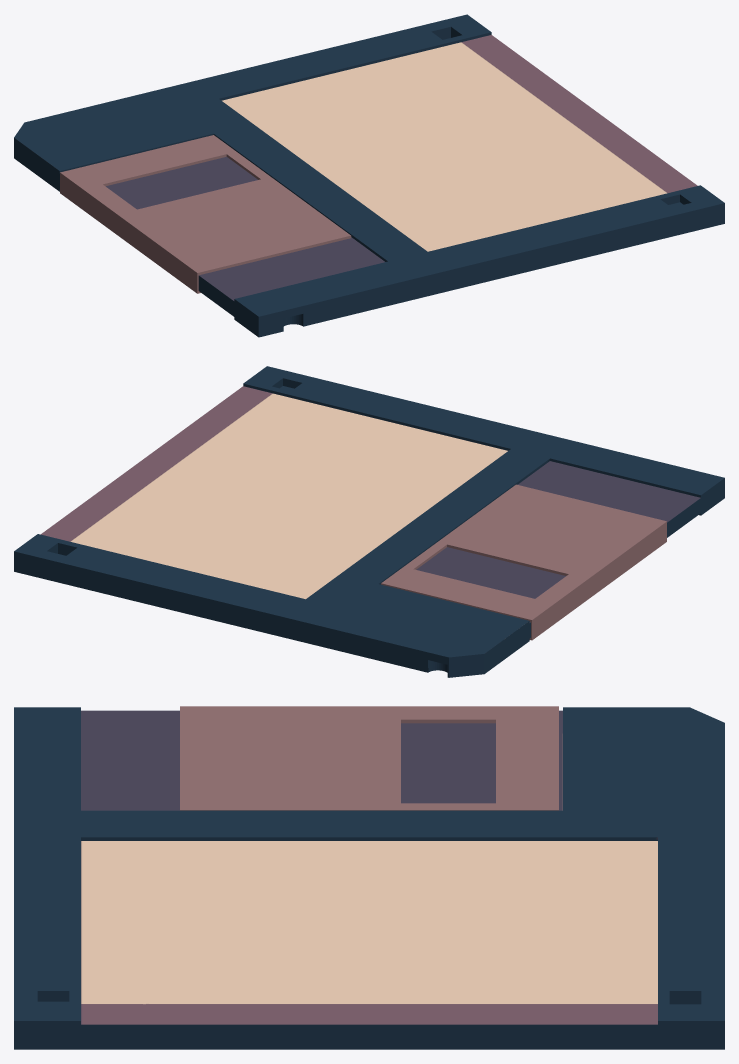
The model's file is floppy.glb.
The picture shows the model from 3 angles, top to bottom: view 1: azimuth 30°, elevation 25°; view 2: azimuth 150°, elevation 25°; view 3: azimuth 270°, elevation 25°; orthographic projection. The views are drawn at different scales.
Visible parts, largest first — view 1: Cube_0; view 2: Cube_0; view 3: Cube_0.
Boxes of the visible parts, x1=… form: Cube_0: x1=14, y1=14, x2=724, y2=337; Cube_0: x1=14, y1=366, x2=724, y2=677; Cube_0: x1=14, y1=706, x2=724, y2=1049.
Size of the model in its own units: 9.43 by 0.4 by 9.
3 materials, 2 textured.
